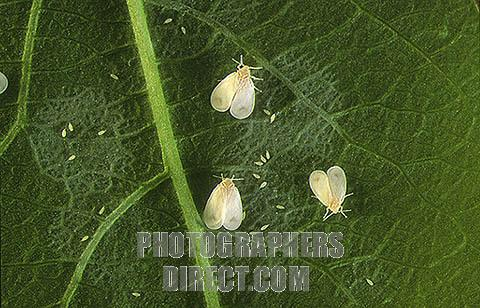whitefly: (209, 54, 262, 119), (309, 165, 355, 219), (203, 175, 244, 231)
